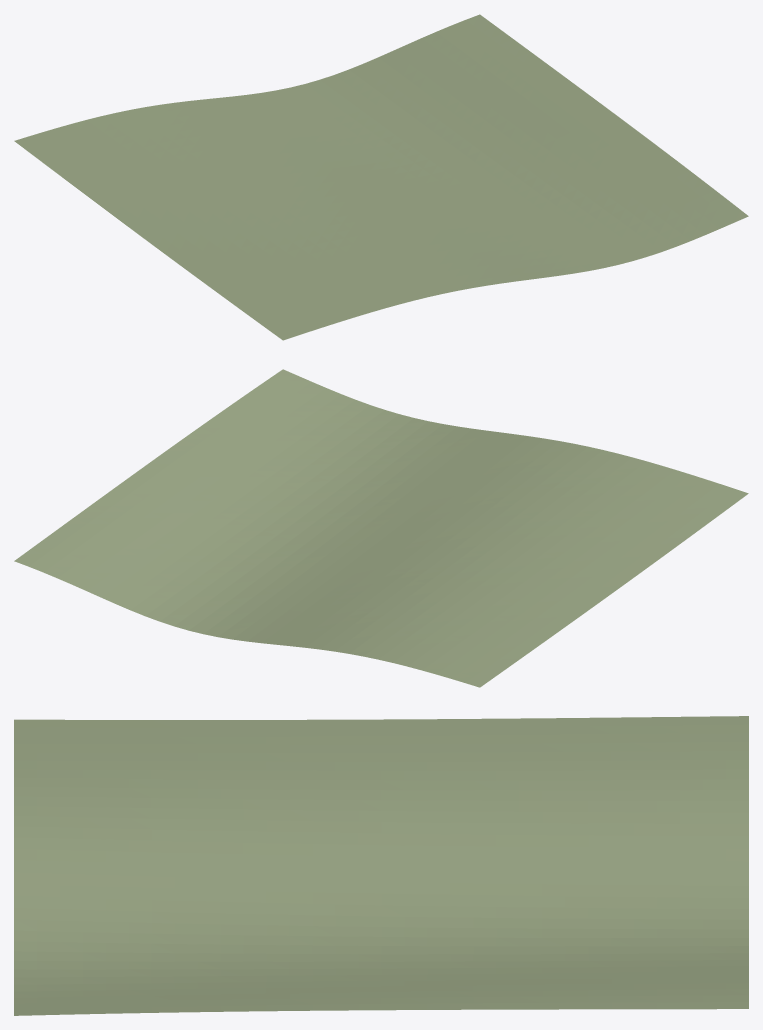
Rendered from desert-12-21.glb.
3 views of the same model, one above another, from view 1: azimuth 30°, elevation 25°; view 2: azimuth 150°, elevation 25°; view 3: azimuth 270°, elevation 25° (orthographic). The views are drawn at different scales.
Visible parts, largest first — view 1: desert-12-21; view 2: desert-12-21; view 3: desert-12-21.
Boxes of the visible parts, <box> form: desert-12-21: <box>14,14,748,340</box>; desert-12-21: <box>14,369,748,687</box>; desert-12-21: <box>14,716,748,1015</box>.
Size of the model in its own units: 512 by 28.2 by 512.
